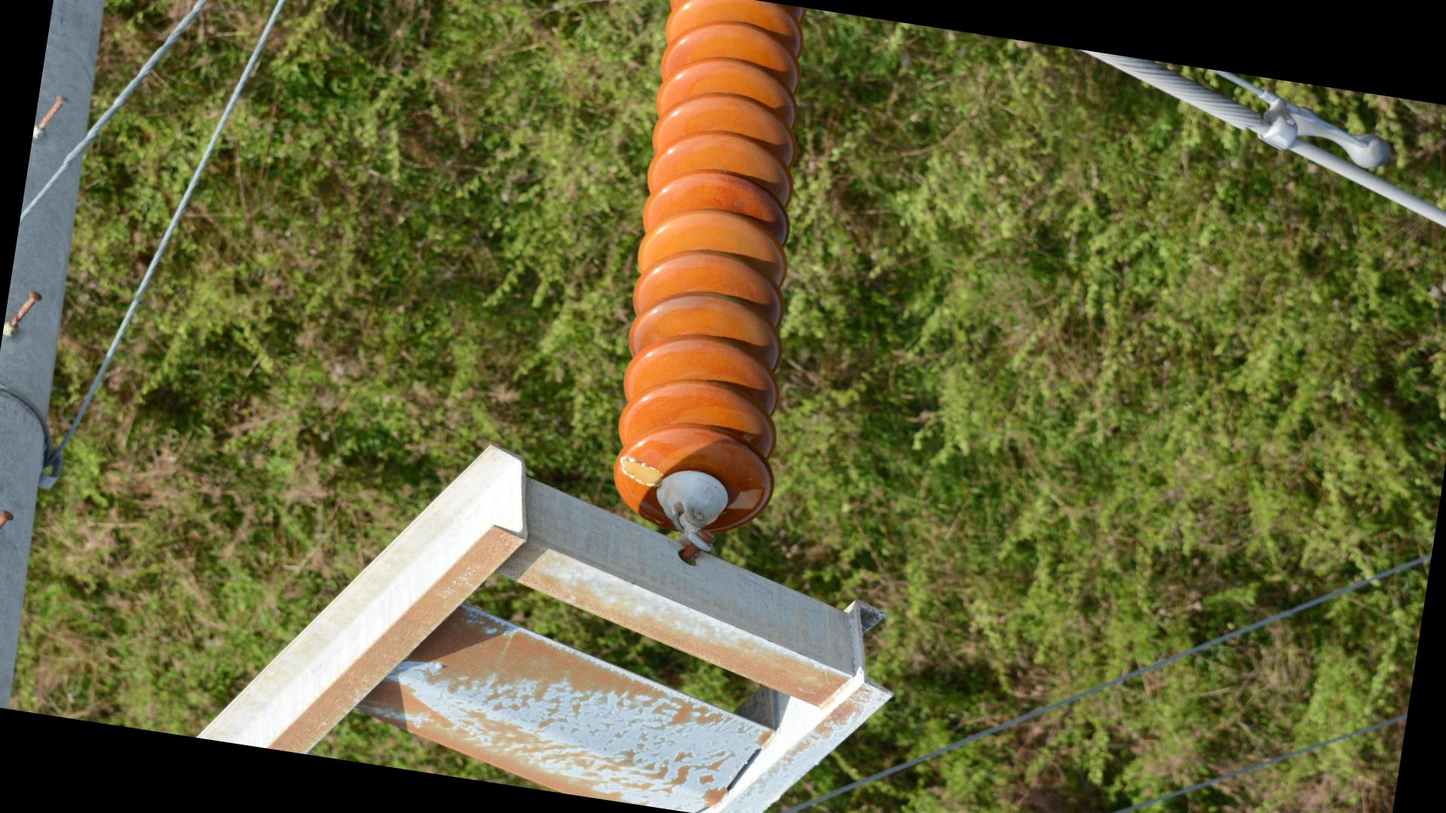damper: (1134, 13, 1413, 178)
